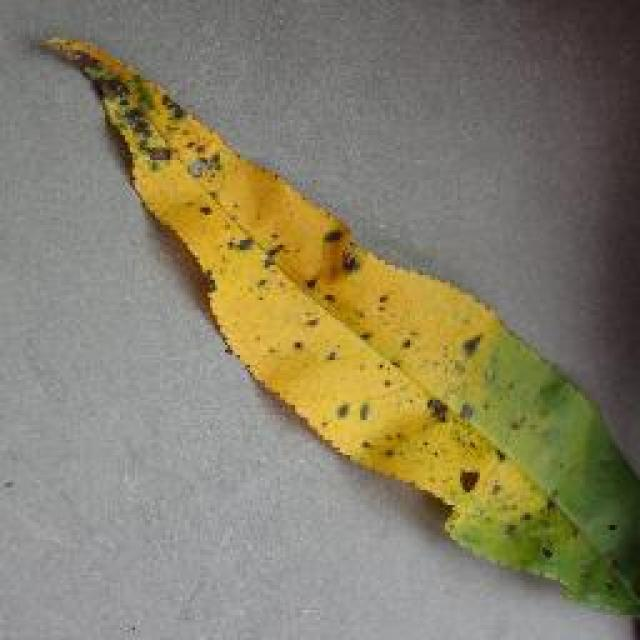Peach_Bacterial_Spot: (112, 64, 400, 334)
